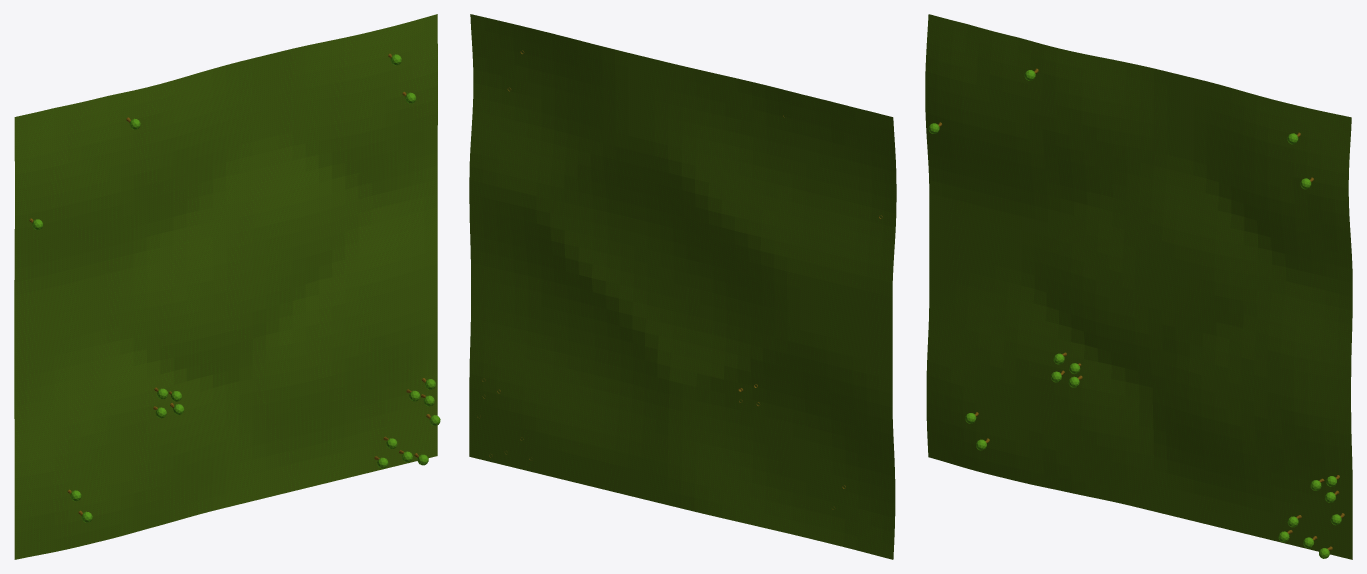
The model's file is level1map.gltf.
3 views of the same model, side by side, from view 1: azimuth 30°, elevation 25°; view 2: azimuth 150°, elevation 25°; view 3: azimuth 330°, elevation 25° (orthographic).
Parts seen in each view (by area): view 1: Ground; view 2: Ground; view 3: Ground.
Boxes of the visible parts, x1=… form: Ground: x1=14, y1=14, x2=437, y2=559; Ground: x1=469, y1=14, x2=896, y2=559; Ground: x1=925, y1=14, x2=1352, y2=559.
Size of the model in its own units: 100 by 100 by 5.41.
3 materials, 3 textured.
